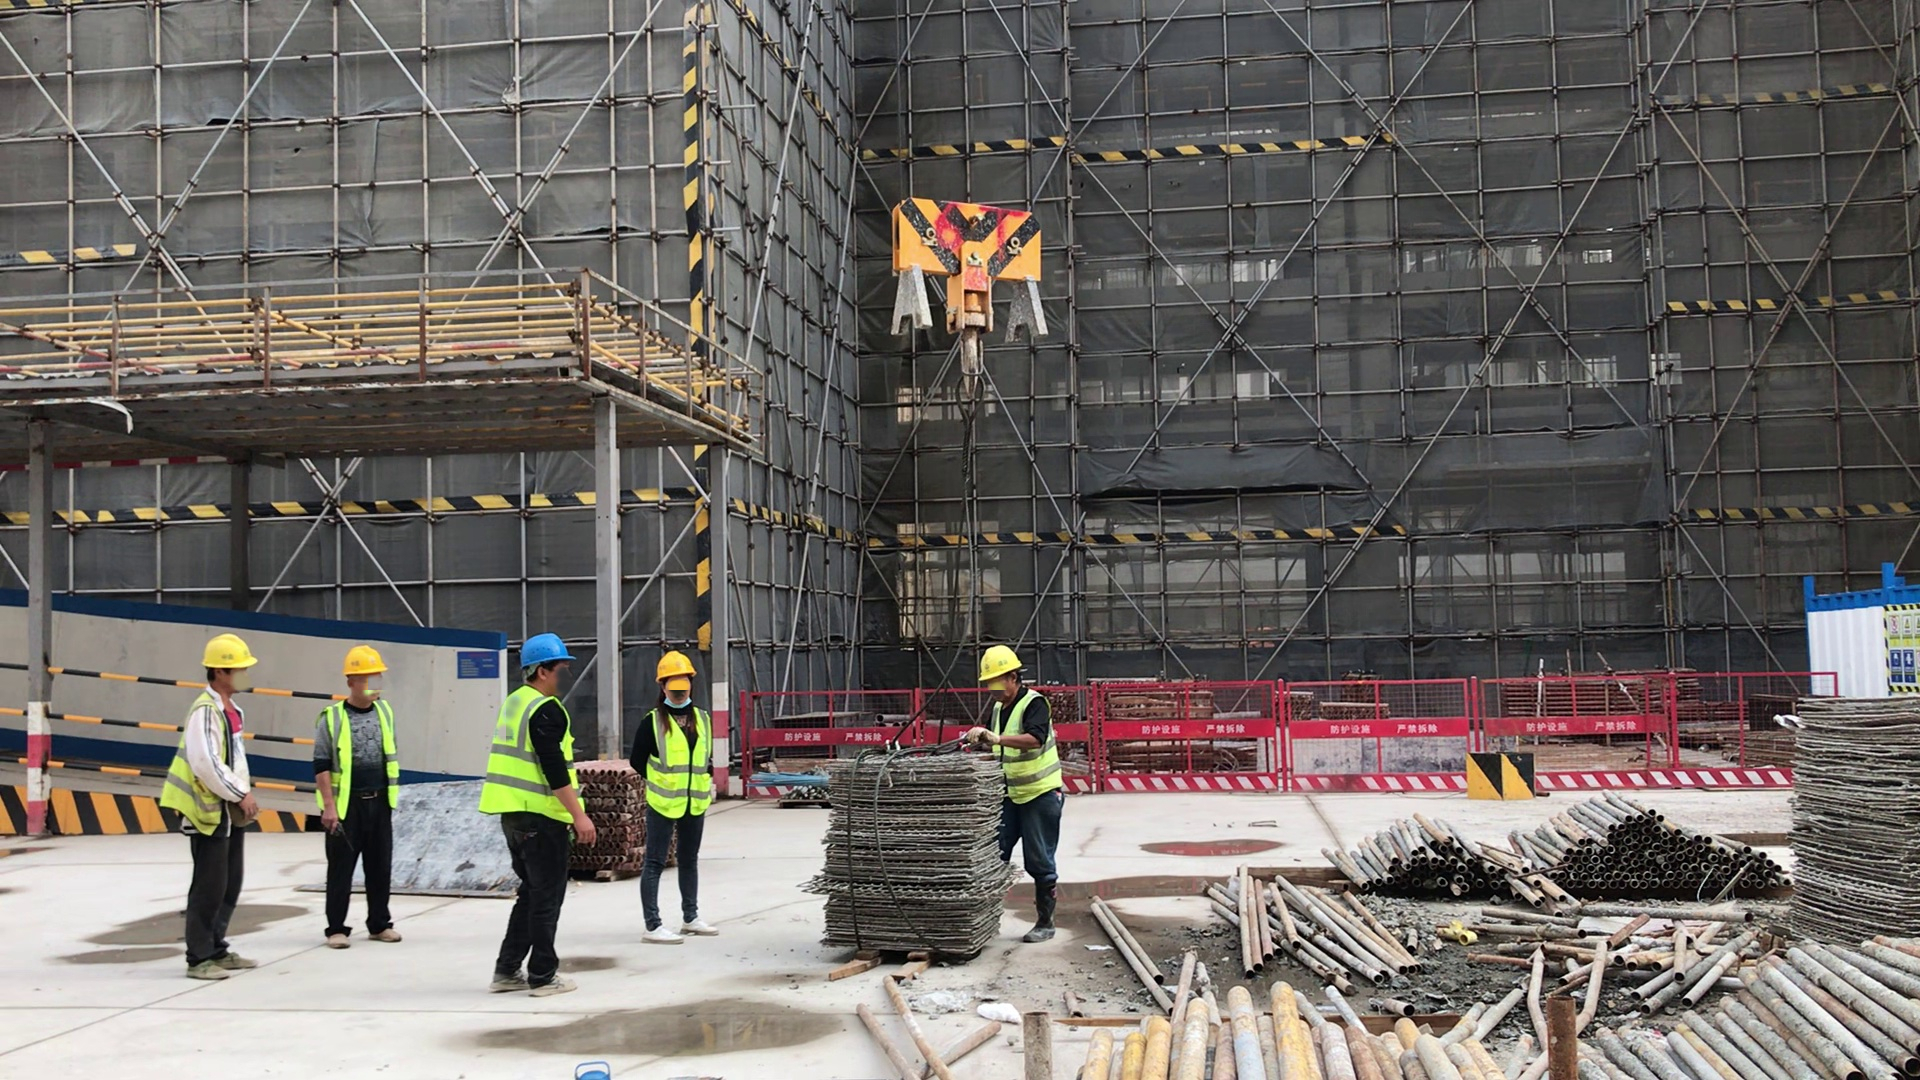helmet: (197, 630, 257, 674), (514, 631, 577, 665), (976, 643, 1023, 683), (337, 643, 387, 676), (654, 648, 698, 680)
person: (476, 633, 598, 1001), (157, 628, 273, 973), (954, 644, 1069, 946), (625, 647, 727, 948), (312, 641, 407, 949)
vest: (475, 685, 582, 837), (312, 692, 403, 829), (157, 691, 239, 838), (976, 686, 1069, 810), (635, 702, 717, 822)
